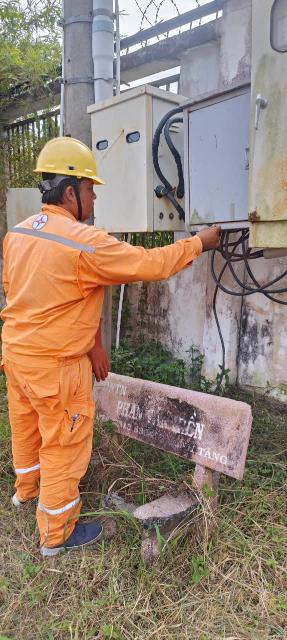gloves: (79, 319, 115, 385)
helmet: (24, 125, 118, 202)
shoes: (40, 514, 111, 560)
